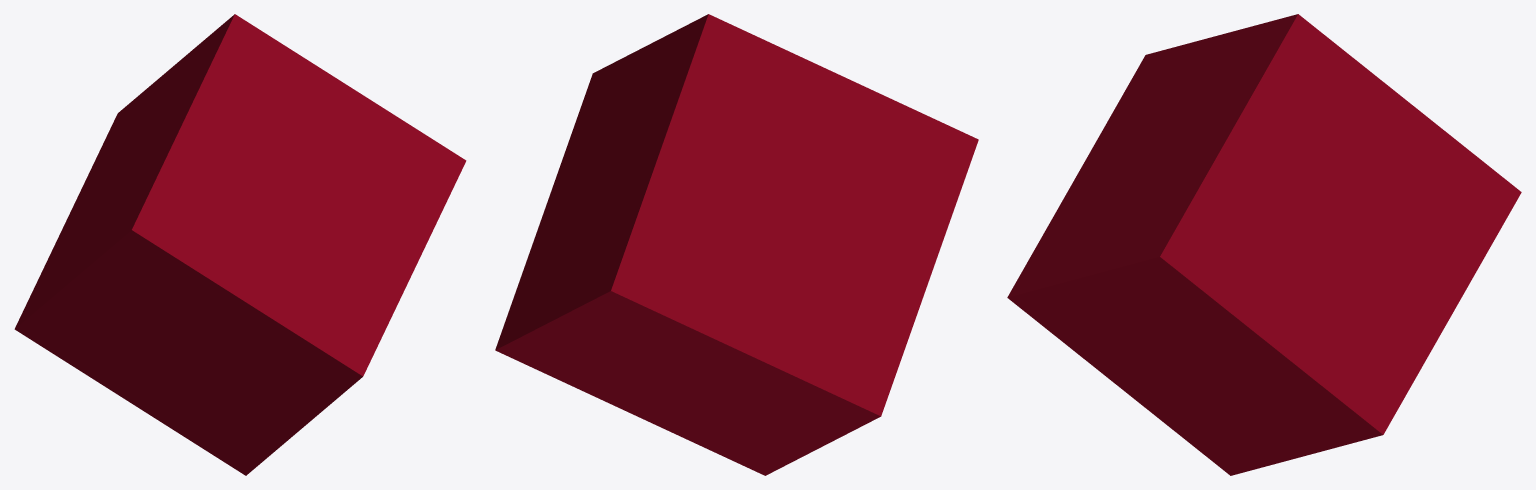
The picture shows the model from 3 angles, left to right: view 1: azimuth 30°, elevation 25°; view 2: azimuth 150°, elevation 25°; view 3: azimuth 270°, elevation 25°; orthographic projection. The views are drawn at different scales.
Visible parts, largest first — view 1: mesh_id27; view 2: mesh_id27; view 3: mesh_id27.
Boxes of the visible parts, left/top/right/bottom form: mesh_id27: left=14, top=14, right=466, bottom=475; mesh_id27: left=495, top=14, right=978, bottom=475; mesh_id27: left=1007, top=14, right=1521, bottom=475.
Bounding box in the file's own units: 0.2944 × 0.3431 × 0.3385.
Materials: 1 (1 with a texture image).
